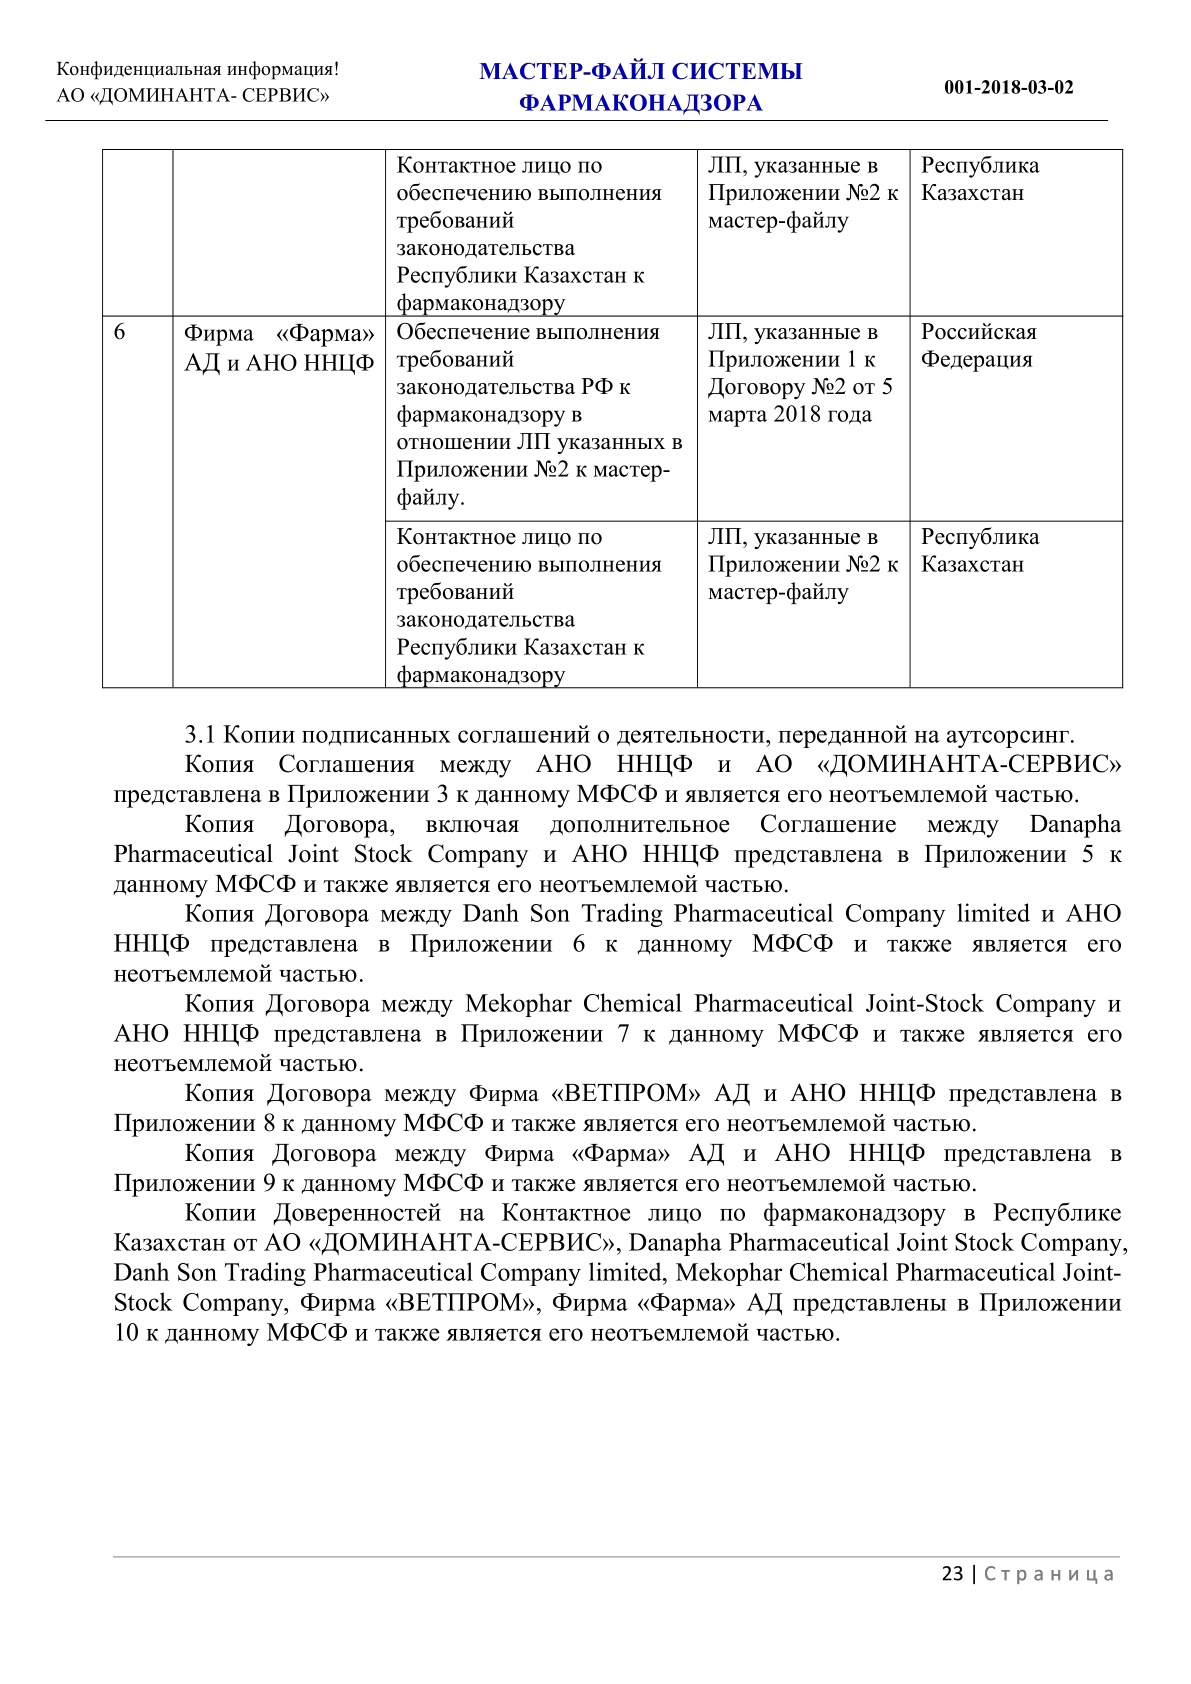full_lined: (104, 155, 1118, 687)
